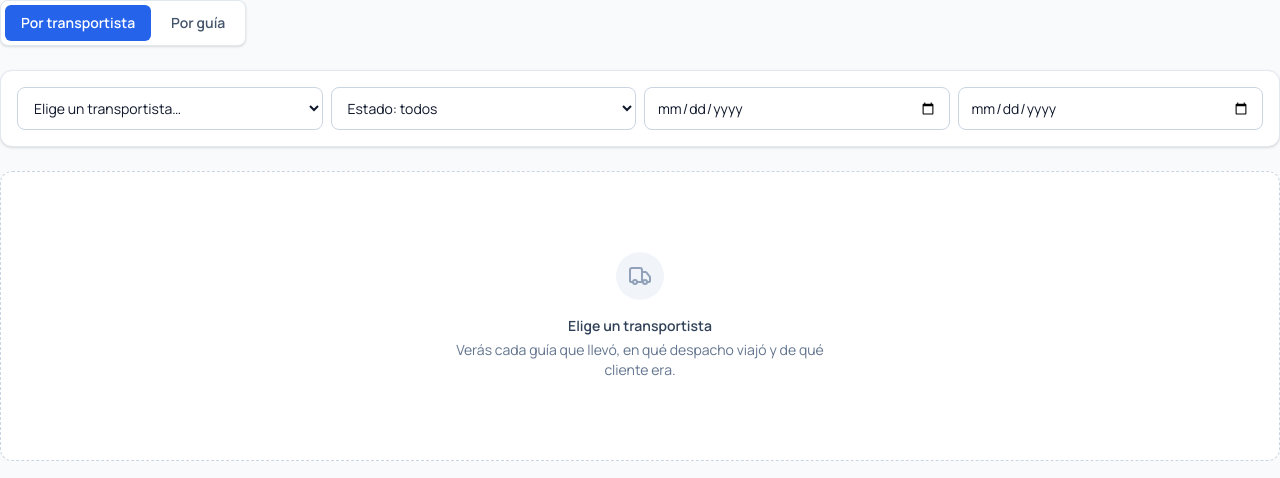
Test case: TrazabilidadView › shows every package a carrier took, with guía, cliente and cartones cargados/planeados
The width and height of the screenshot is (1280, 478).
Select "Transportes del Bajío" in the dropdown named "Transportista": (170, 108) [17,87,322,130]
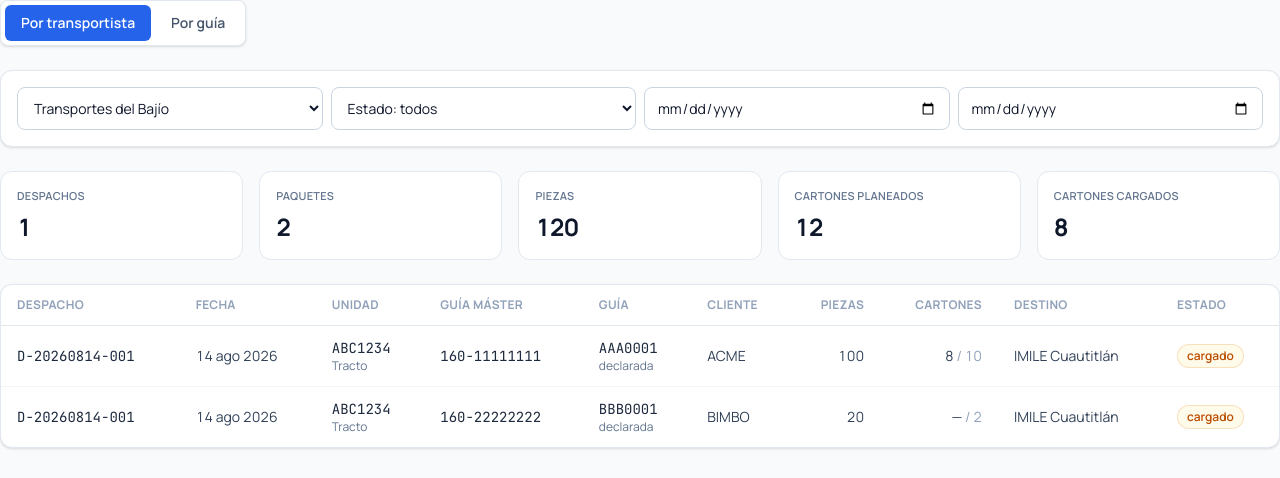
Now the text "D-20260814-001" in the row of "160-11111111" is shown, box [17,346,135,364]
Now the text "AAA0001" is shown, box [599,338,658,356]
Now the text "160-11111111" is shown, box [424,325,583,386]
